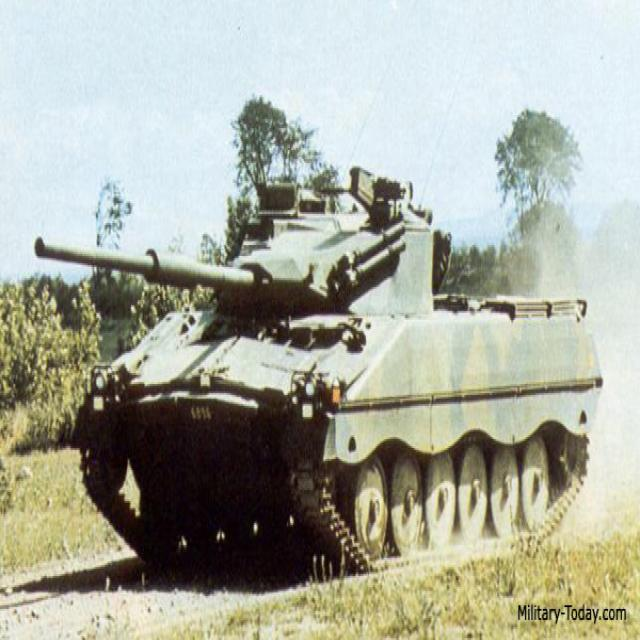Tank: (34, 106, 599, 550)
